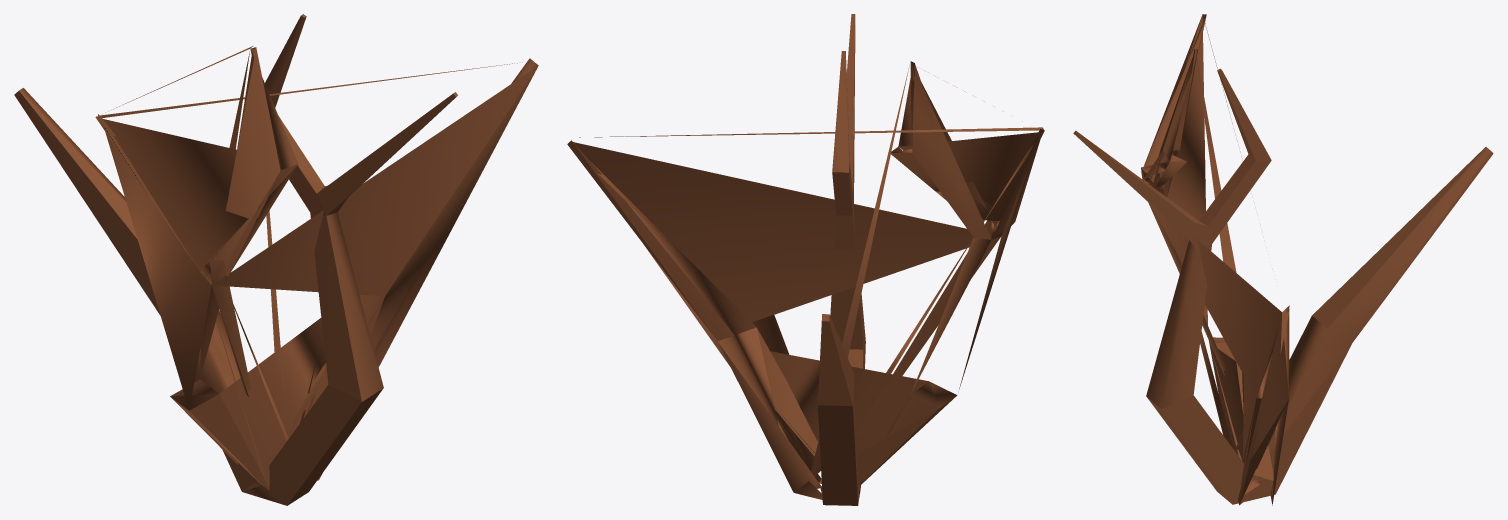
File: circle vine.glb
The picture shows the model from 3 angles, left to right: view 1: azimuth 30°, elevation 25°; view 2: azimuth 150°, elevation 25°; view 3: azimuth 270°, elevation 25°; orthographic projection. The views are drawn at different scales.
Parts seen in each view (by area): view 1: Icosphere.004_Brown_0.001; view 2: Icosphere.004_Brown_0.001; view 3: Icosphere.004_Brown_0.001.
Boxes of the visible parts, left/top/right/bottom form: Icosphere.004_Brown_0.001: left=14, top=14, right=538, bottom=505; Icosphere.004_Brown_0.001: left=567, top=14, right=1044, bottom=505; Icosphere.004_Brown_0.001: left=1073, top=14, right=1493, bottom=505.
Bounding box in the file's own units: 2.4 × 2.29 × 2.03.
